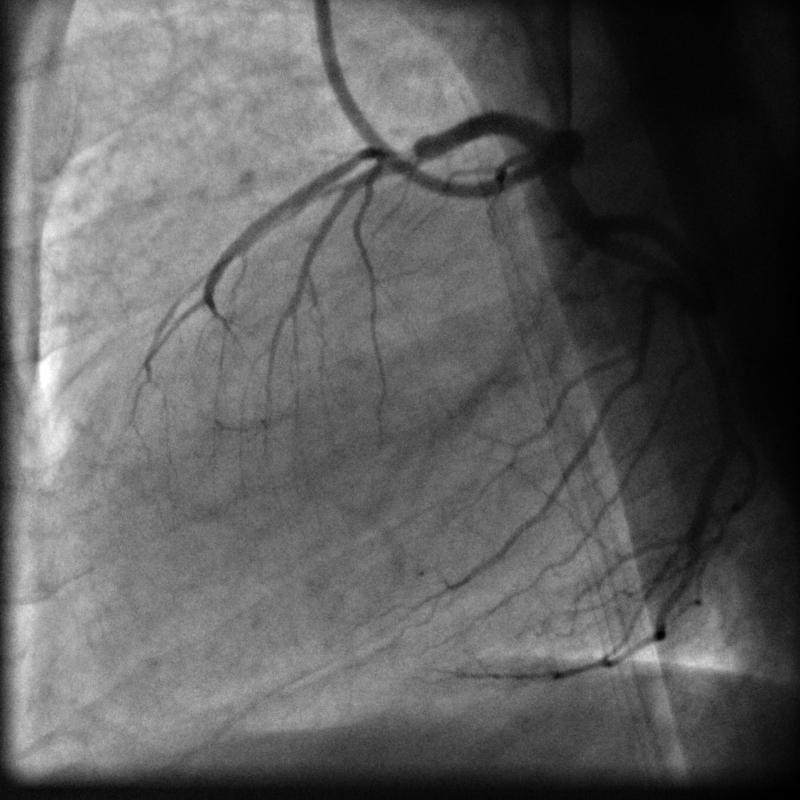Stenosis: (373, 139, 429, 175)
